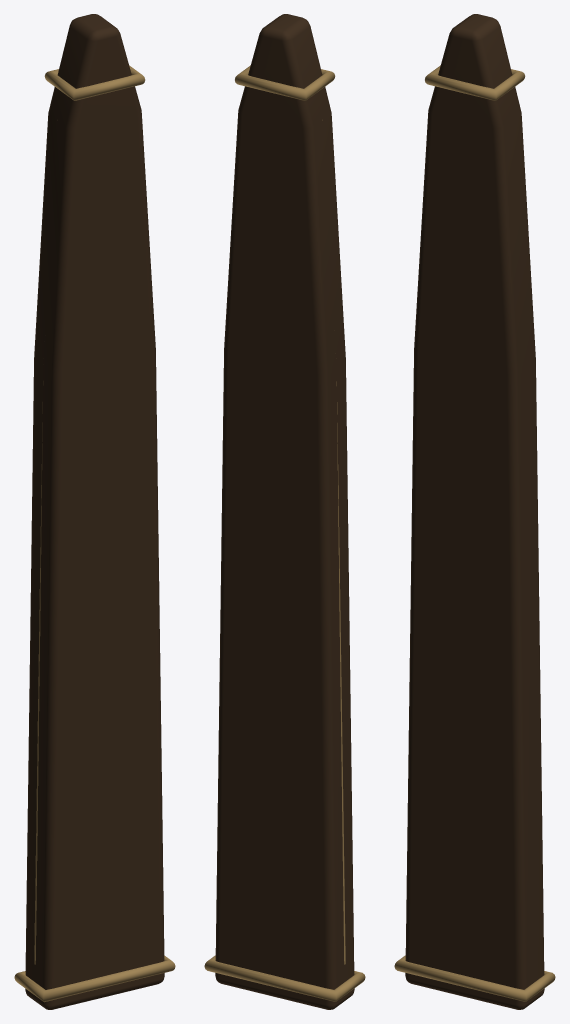
Rendered from kokiri_scabbard.glb.
3 views of the same model, side by side, from view 1: azimuth 30°, elevation 25°; view 2: azimuth 150°, elevation 25°; view 3: azimuth 330°, elevation 25° (orthographic).
Parts seen in each view (by area): view 1: Stitched leather scabbard, Scabbard bronze band, Scabbard bronze band.001, Scabbard longitudinal seam; view 2: Stitched leather scabbard, Scabbard bronze band, Scabbard bronze band.001, Scabbard longitudinal seam; view 3: Stitched leather scabbard, Scabbard bronze band, Scabbard bronze band.001.
Boxes of the visible parts, left/top/right/bottom form: Stitched leather scabbard: left=25, top=14, right=164, bottom=1009; Scabbard bronze band: left=14, top=955, right=175, bottom=1002; Scabbard bronze band.001: left=44, top=65, right=145, bottom=100; Scabbard longitudinal seam: left=34, top=120, right=57, bottom=964; Stitched leather scabbard: left=215, top=14, right=354, bottom=1009; Scabbard bronze band: left=204, top=955, right=365, bottom=1001; Scabbard bronze band.001: left=235, top=65, right=335, bottom=100; Scabbard longitudinal seam: left=322, top=120, right=345, bottom=964; Stitched leather scabbard: left=405, top=14, right=544, bottom=1009; Scabbard bronze band: left=394, top=955, right=555, bottom=1001; Scabbard bronze band.001: left=425, top=65, right=525, bottom=100.
Size of the model in its own units: 0.0742 by 0.52 by 0.0282.
